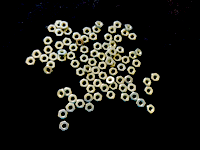nut: (59, 121, 70, 132), (58, 110, 69, 120), (43, 45, 54, 55), (66, 103, 76, 114), (79, 78, 89, 89), (143, 87, 154, 97), (105, 91, 116, 101), (130, 92, 139, 104), (43, 66, 53, 76), (75, 99, 85, 109), (83, 94, 93, 104), (136, 99, 146, 109), (76, 68, 86, 78), (124, 75, 134, 85), (86, 102, 95, 113), (31, 50, 42, 59), (127, 66, 136, 77), (38, 55, 50, 63), (43, 36, 53, 45), (114, 34, 123, 44), (70, 60, 80, 69), (133, 59, 142, 69), (121, 93, 130, 103), (94, 93, 103, 103), (100, 84, 109, 94), (68, 44, 78, 53), (54, 41, 64, 50), (74, 38, 84, 47), (99, 71, 108, 81), (128, 83, 137, 93), (117, 63, 127, 72), (147, 104, 155, 115), (86, 86, 97, 94), (141, 78, 152, 86), (152, 73, 161, 82), (26, 57, 35, 66), (68, 95, 77, 104), (67, 52, 76, 61), (88, 58, 97, 67), (80, 54, 89, 63), (89, 33, 98, 42), (110, 82, 119, 91), (128, 33, 137, 42), (93, 42, 102, 51), (122, 56, 131, 65), (108, 59, 117, 68), (58, 89, 66, 99), (86, 73, 96, 81), (93, 80, 103, 88), (54, 29, 64, 37), (119, 85, 129, 93), (109, 68, 119, 76), (104, 51, 114, 59), (50, 52, 58, 62), (48, 25, 57, 33), (60, 21, 69, 29), (63, 38, 72, 46), (65, 88, 73, 97), (47, 61, 55, 70), (83, 65, 92, 73), (83, 28, 92, 36), (73, 32, 81, 41), (95, 20, 104, 28), (93, 25, 101, 34), (107, 75, 115, 84), (116, 77, 125, 85), (98, 62, 107, 70), (102, 42, 110, 51), (114, 35, 122, 44), (104, 33, 112, 42), (98, 52, 106, 61), (109, 48, 117, 57), (114, 54, 122, 63), (105, 58, 115, 65), (114, 21, 122, 29), (81, 46, 89, 54), (92, 67, 100, 75), (82, 36, 90, 44), (109, 25, 117, 33), (117, 46, 125, 54), (129, 51, 137, 59), (58, 55, 67, 62), (54, 21, 63, 28), (91, 49, 98, 58), (64, 28, 72, 35), (121, 29, 128, 37), (58, 50, 67, 56), (125, 24, 132, 31), (110, 41, 117, 48), (137, 49, 142, 57)
